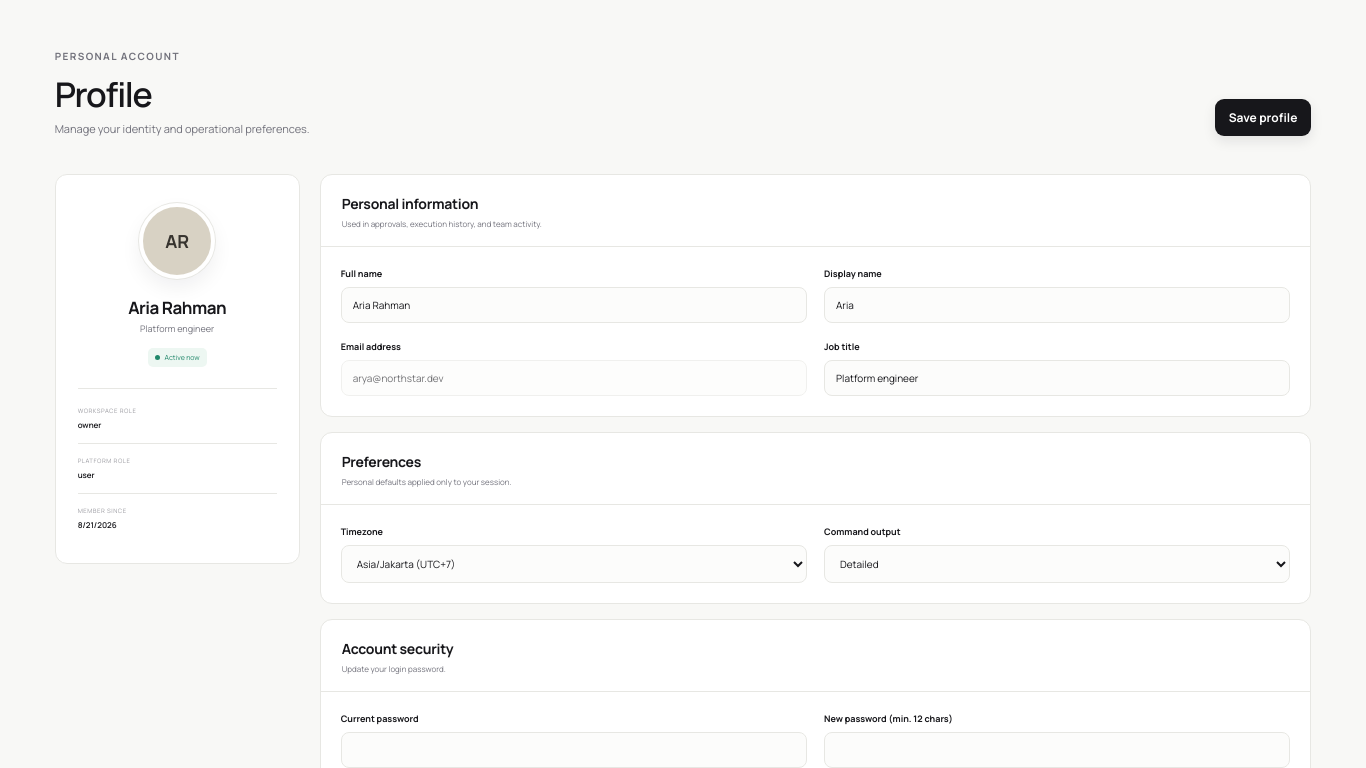
Test case: Settings & Profile Pages › loads and updates user profile and handles password change
Check: the field showing "Aria Rahman" is shown, box x1=341 y1=287 x2=807 y2=323
Check: the field showing "arya@northstar.dev" is disabled, box x1=341 y1=360 x2=807 y2=396
Replace the text in the field showing "Platform engineer" with "Principal SRE" at (1057, 378), box x1=824 y1=360 x2=1290 y2=396
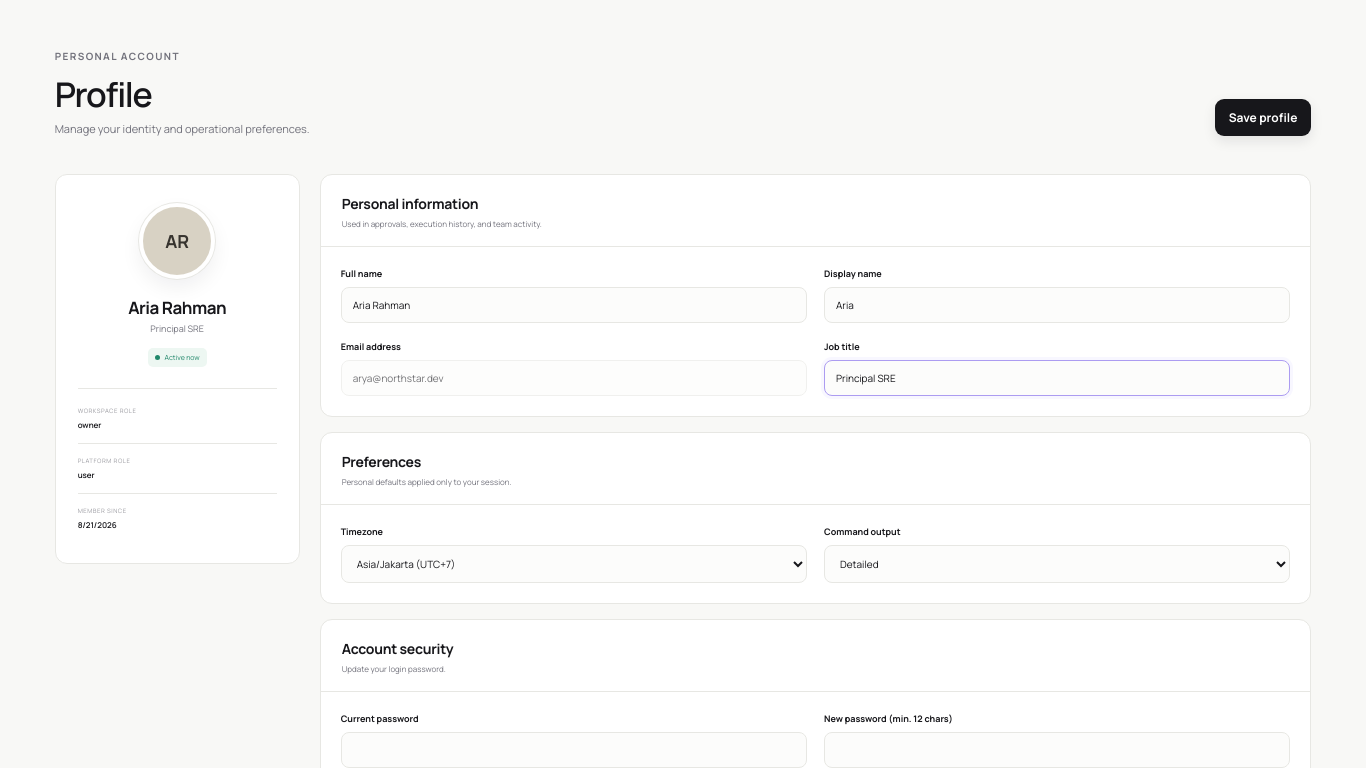
Click the button "Save profile" at (1263, 118), box x1=1215 y1=99 x2=1311 y2=136
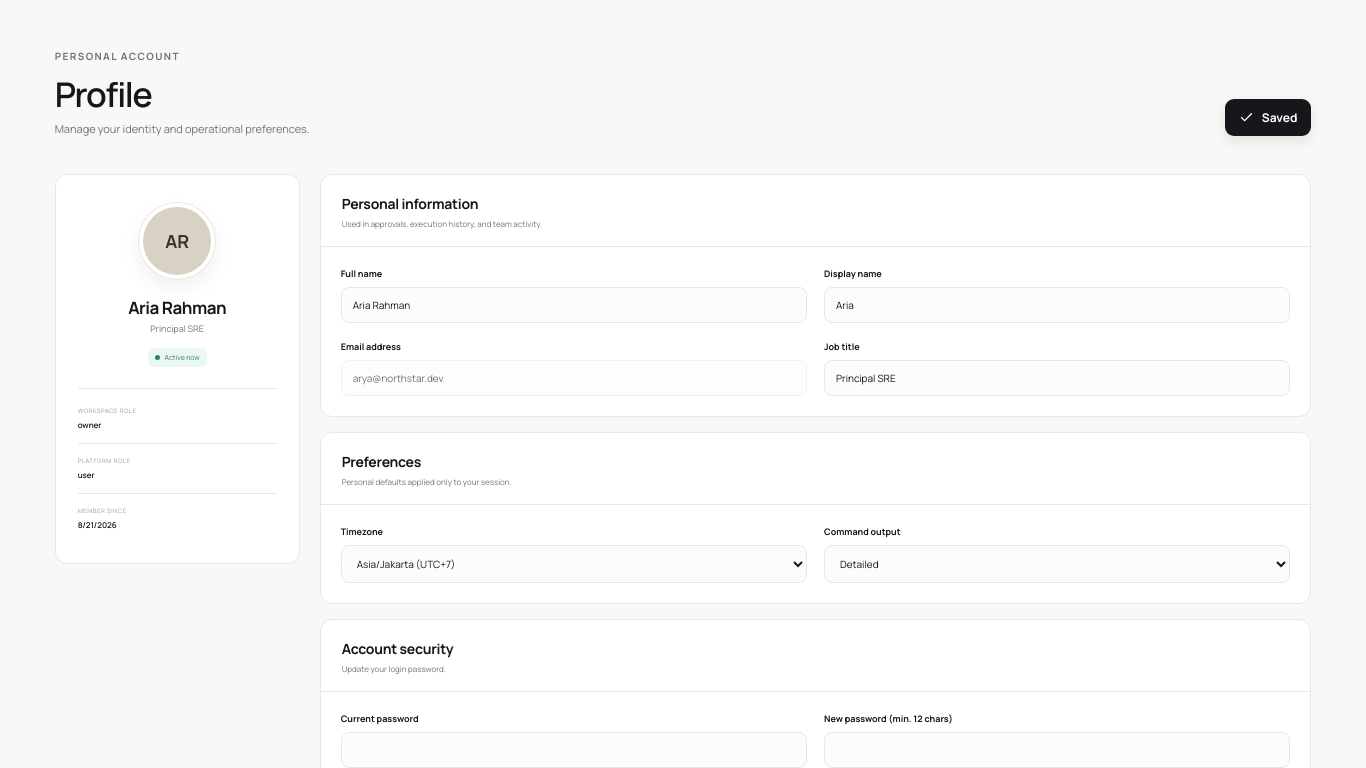
Check: the button "Saved" is shown, box x1=1225 y1=99 x2=1311 y2=136
